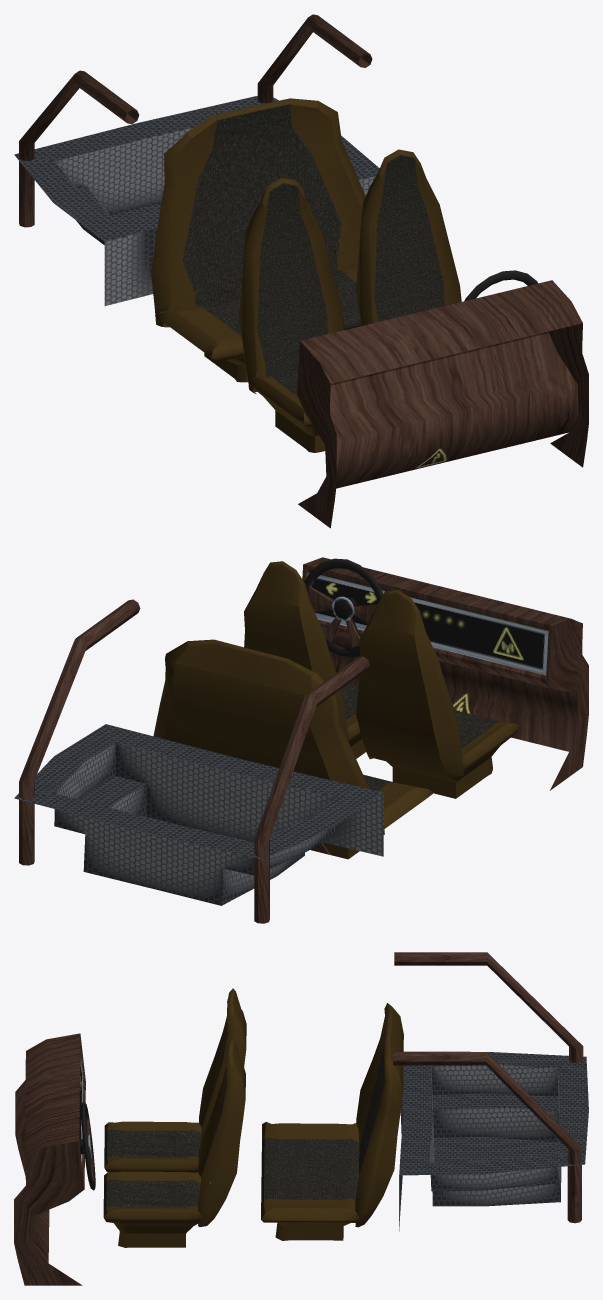
The model's file is InnardsNB.obj.
3 views of the same model, one above another, from view 1: azimuth 30°, elevation 25°; view 2: azimuth 150°, elevation 25°; view 3: azimuth 270°, elevation 25° (orthographic). The views are drawn at different scales.
Visible parts, largest first — view 1: MainBody Geometry Jeep Dashboard, MainBody Geometry Jeep Rear_Seat, MainBody Geometry Jeep Trunk, polySurface4 Passenger_Seat MainBody Geometry Jeep, Passenger_Seat MainBody Geometry Jeep polySurface9, MainBody Geometry Jeep Bars, MainBody Geometry Jeep Driver_Seat polySurface8, MainBody Geometry Jeep Steering_Wheel; view 2: MainBody Geometry Jeep Trunk, MainBody Geometry Jeep Dashboard, MainBody Geometry Jeep Rear_Seat, polySurface4 Passenger_Seat MainBody Geometry Jeep, MainBody Geometry Jeep Bars, Passenger_Seat MainBody Geometry Jeep polySurface9, MainBody Geometry Jeep Driver_Seat polySurface8, MainBody Geometry Jeep Steering_Wheel, MainBody Geometry Jeep polySurface7 Driver_Seat; view 3: MainBody Geometry Jeep Trunk, MainBody Geometry Jeep Rear_Seat, MainBody Geometry Jeep Dashboard, MainBody Geometry Jeep polySurface7 Driver_Seat, MainBody Geometry Jeep Bars, Passenger_Seat MainBody Geometry Jeep polySurface9, MainBody Geometry Jeep Driver_Seat polySurface8, polySurface4 Passenger_Seat MainBody Geometry Jeep, MainBody Geometry Jeep Steering_Wheel.
Boxes of the visible parts, x1,y1,x2,y2 form: MainBody Geometry Jeep Dashboard: (297,280,588,528); MainBody Geometry Jeep Rear_Seat: (151,98,365,382); MainBody Geometry Jeep Trunk: (14,96,379,305); polySurface4 Passenger_Seat MainBody Geometry Jeep: (239,177,344,393); Passenger_Seat MainBody Geometry Jeep polySurface9: (356,149,461,325); MainBody Geometry Jeep Bars: (19,14,372,227); MainBody Geometry Jeep Driver_Seat polySurface8: (248,370,325,452); MainBody Geometry Jeep Steering_Wheel: (464,270,537,301); MainBody Geometry Jeep Trunk: (14,724,383,905); MainBody Geometry Jeep Dashboard: (302,557,588,790); MainBody Geometry Jeep Rear_Seat: (153,639,433,859); polySurface4 Passenger_Seat MainBody Geometry Jeep: (356,589,464,780); MainBody Geometry Jeep Bars: (19,599,369,923); Passenger_Seat MainBody Geometry Jeep polySurface9: (244,561,348,740); MainBody Geometry Jeep Driver_Seat polySurface8: (386,710,519,798); MainBody Geometry Jeep Steering_Wheel: (304,558,383,657); MainBody Geometry Jeep polySurface7 Driver_Seat: (342,684,365,758); MainBody Geometry Jeep Trunk: (399,1052,588,1231); MainBody Geometry Jeep Rear_Seat: (261,1003,403,1240); MainBody Geometry Jeep Dashboard: (14,1033,85,1285); MainBody Geometry Jeep polySurface7 Driver_Seat: (103,1171,203,1247); MainBody Geometry Jeep Bars: (393,952,583,1223); Passenger_Seat MainBody Geometry Jeep polySurface9: (197,1038,245,1226); MainBody Geometry Jeep Driver_Seat polySurface8: (104,1121,201,1172); polySurface4 Passenger_Seat MainBody Geometry Jeep: (198,988,246,1161); MainBody Geometry Jeep Steering_Wheel: (79,1101,95,1190).
Bounding box in the file's own units: 152 × 134 × 303.
1 material, 1 textured.
